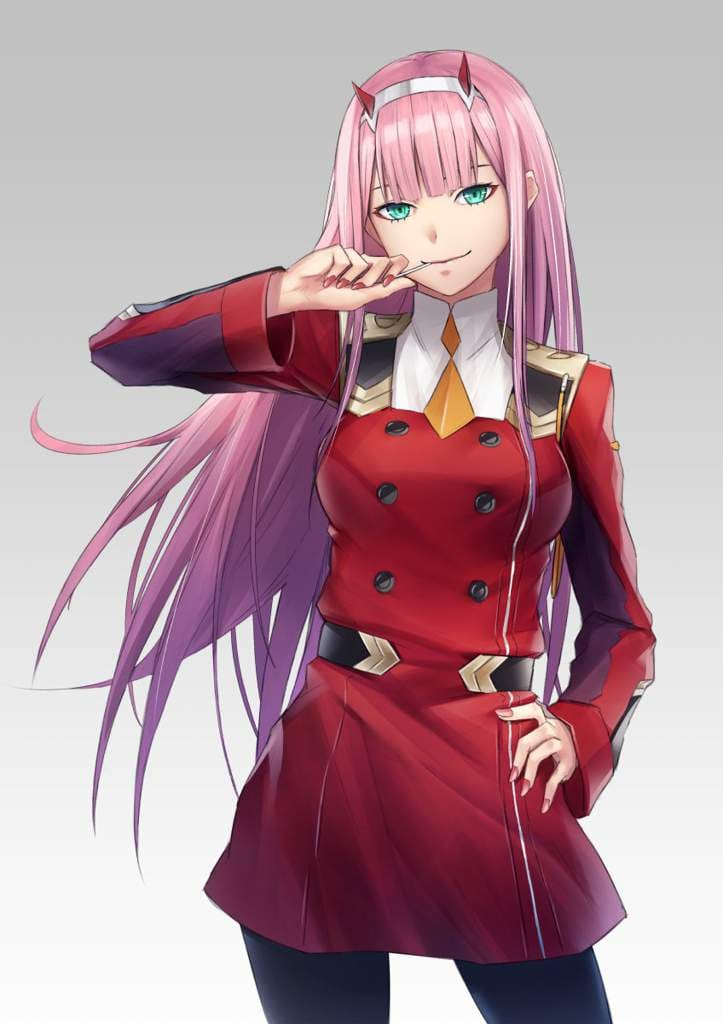zeroTwo: (334, 47, 551, 300)
